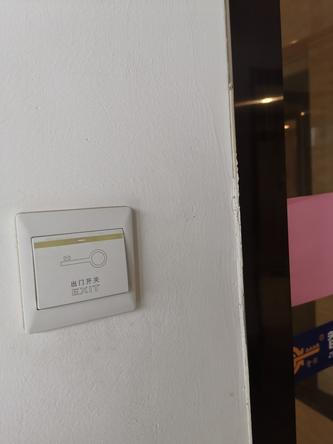switch: (27, 223, 136, 312)
